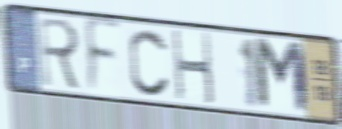1: (237, 36, 262, 111)
C: (127, 26, 172, 99)
F: (83, 15, 124, 98)
H: (170, 28, 217, 108)
M: (251, 34, 312, 118)
R: (37, 15, 84, 94)
